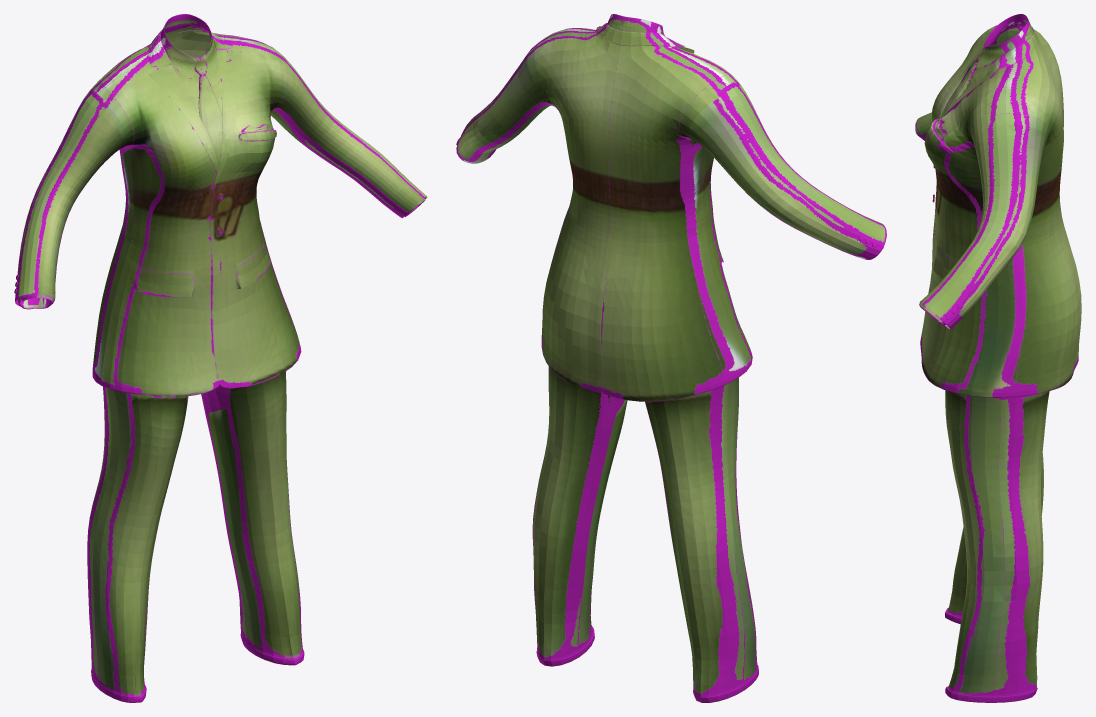
The picture shows the model from 3 angles, left to right: view 1: azimuth 30°, elevation 25°; view 2: azimuth 150°, elevation 25°; view 3: azimuth 270°, elevation 25°; orthographic projection. The views are drawn at different scales.
Bounding box in the file's own units: 0.5909 × 0.884 × 0.2086.
1 material, 1 textured.
